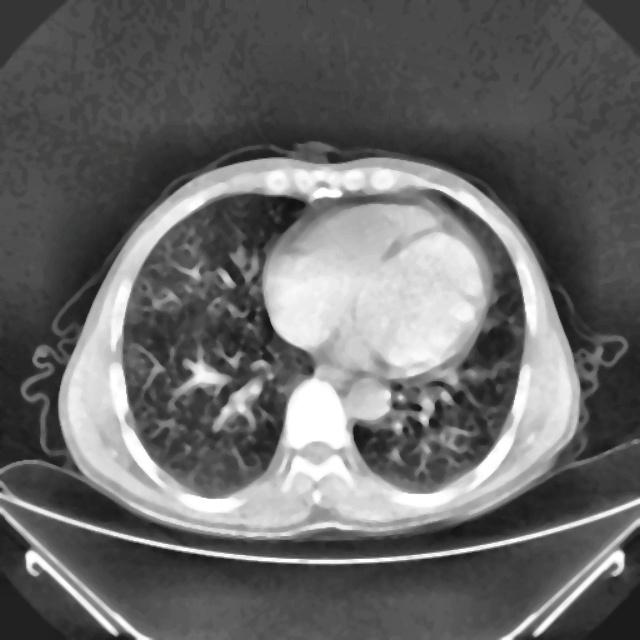covid: (57, 145, 583, 541)
